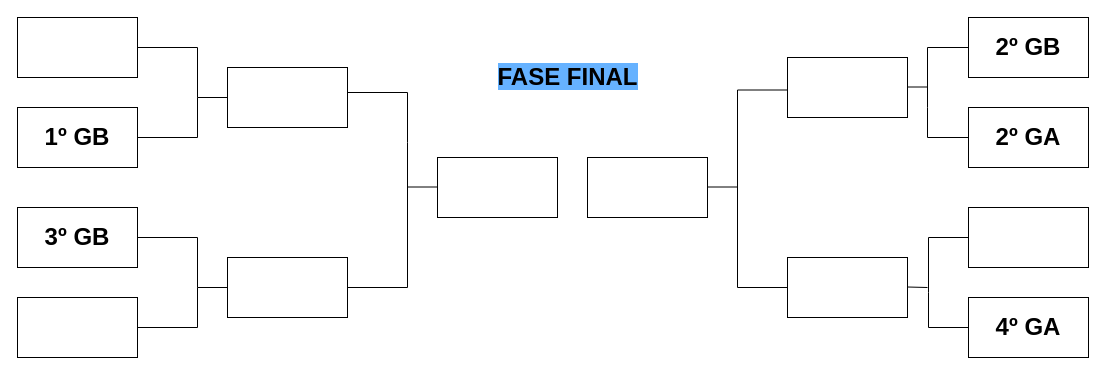
This 1106x375 diagram has some shape labels left out. The box of each missing label's shape, as (x1, y1, x2, y2) in pixels:
1º GA: (16, 296, 138, 358)
3º GA: (968, 206, 1088, 268)
4º GB: (16, 16, 138, 78)
